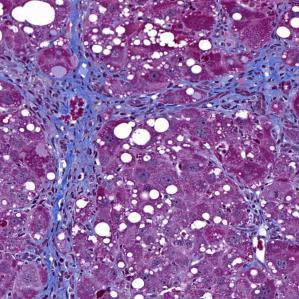fibrosis: (34, 69, 113, 193), (213, 60, 299, 124), (35, 235, 92, 297)
